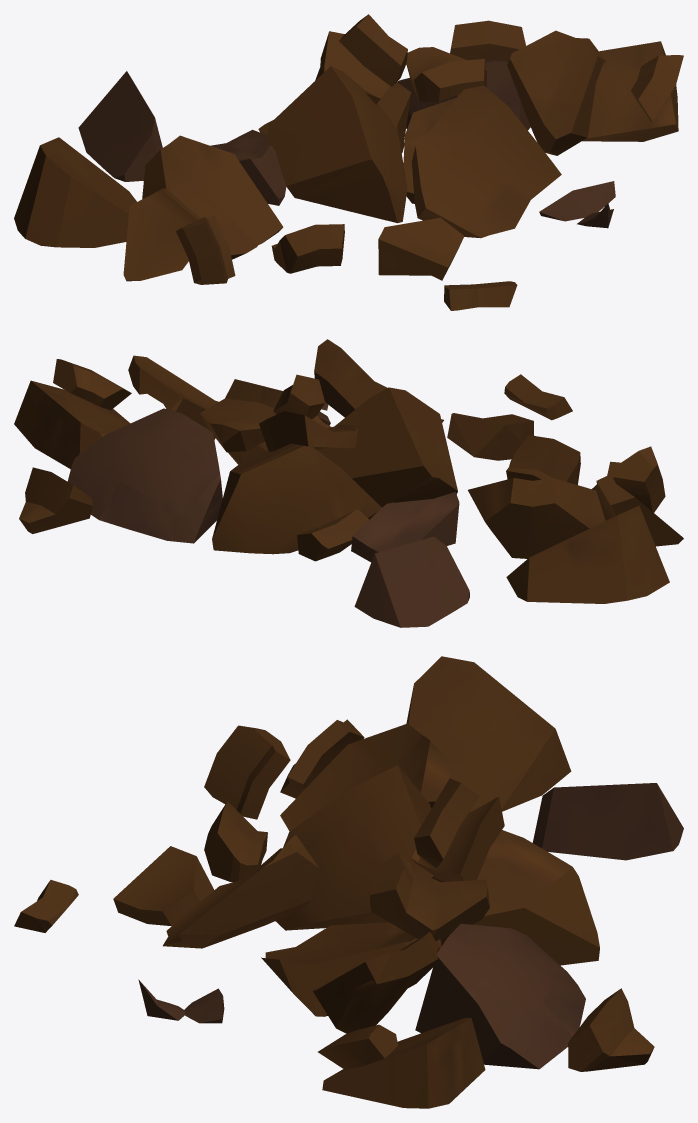
File: vase_rubble-CsAukJFb.glb
The picture shows the model from 3 angles, top to bottom: view 1: azimuth 30°, elevation 25°; view 2: azimuth 150°, elevation 25°; view 3: azimuth 270°, elevation 25°; orthographic projection. The views are drawn at different scales.
Parts seen in each view (by area): view 1: Vase_Rubble_Medium; view 2: Vase_Rubble_Medium; view 3: Vase_Rubble_Medium.
Part boxes in pixels (x1=…): Vase_Rubble_Medium: x1=14, y1=14, x2=683, y2=310; Vase_Rubble_Medium: x1=14, y1=339, x2=683, y2=627; Vase_Rubble_Medium: x1=14, y1=656, x2=683, y2=1108.
Size of the model in its own units: 1.91 by 0.4191 by 1.44.
1 material, 1 textured.
